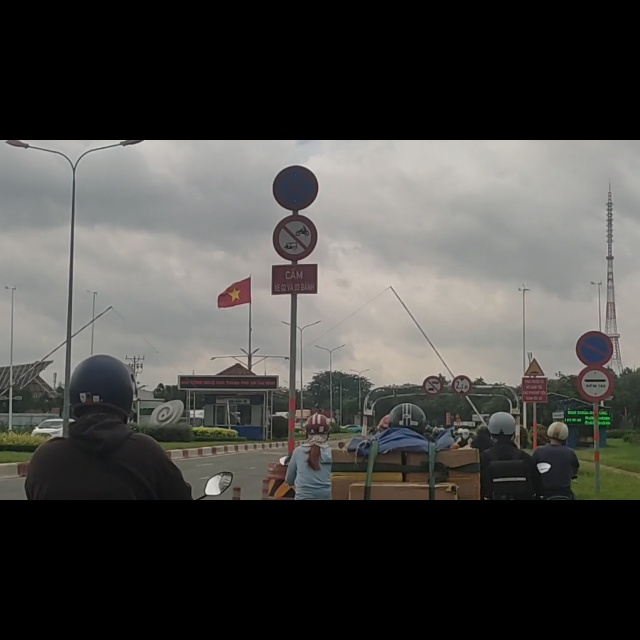bien_cam: (274, 133, 318, 213), (273, 46, 318, 124), (575, 338, 613, 401), (577, 407, 613, 465), (451, 417, 473, 456), (523, 388, 547, 420), (423, 420, 443, 453)
